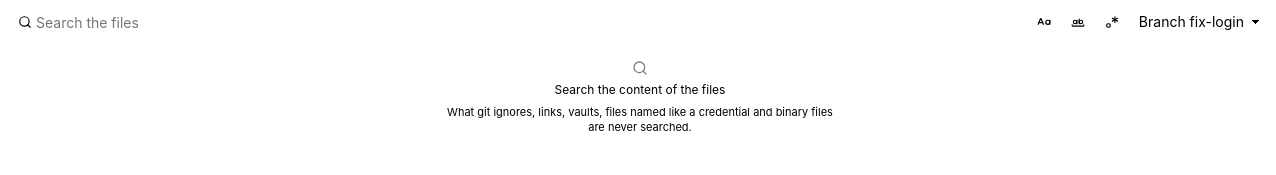
Scenario: the Search view › says what to try when a finished search found nothing, in place of an empty list
The width and height of the screenshot is (1276, 175).
In the search field labelled "Search the files": (518, 22) [12,8,1025,36], type "needle"
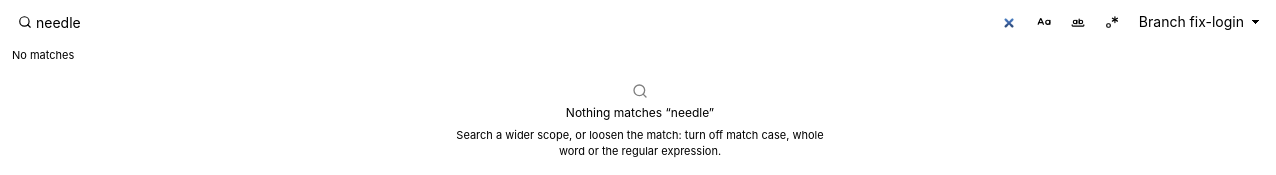
Check: the element with test id "search-none" shows "Nothing matches “needle”", box [566,105,714,120]
Check: the element with test id "search-none" shows "wider scope", box [456,128,824,158]
